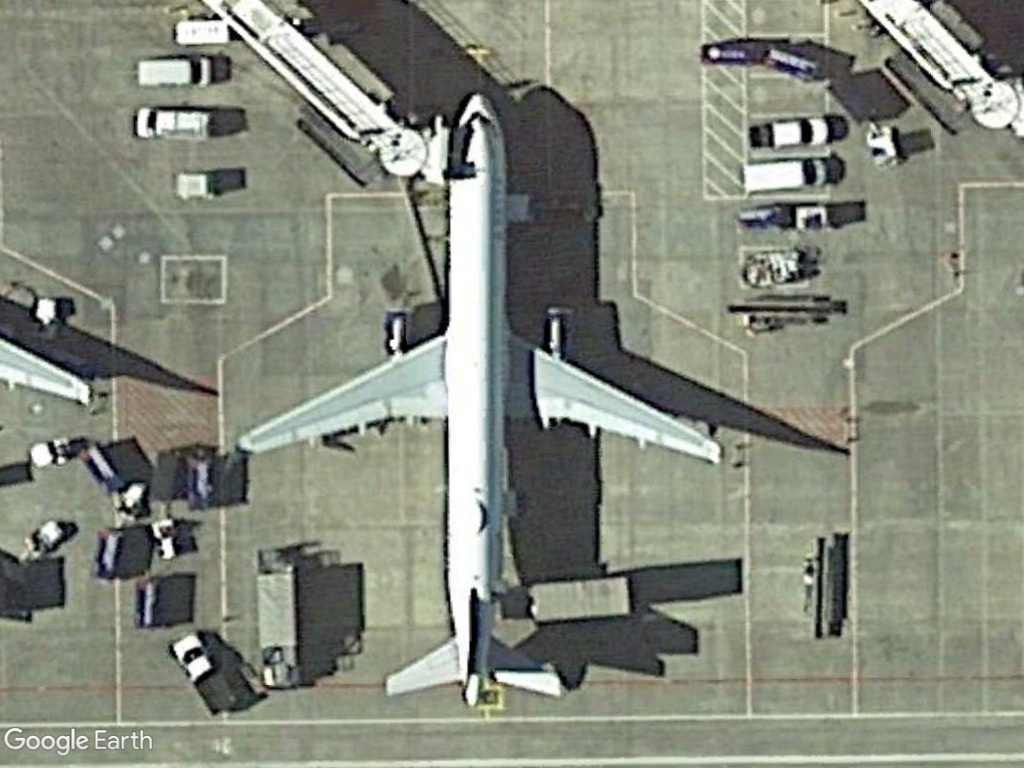airliner: (224, 76, 729, 709)
van: (130, 102, 214, 149), (734, 156, 830, 196), (133, 55, 217, 93)
